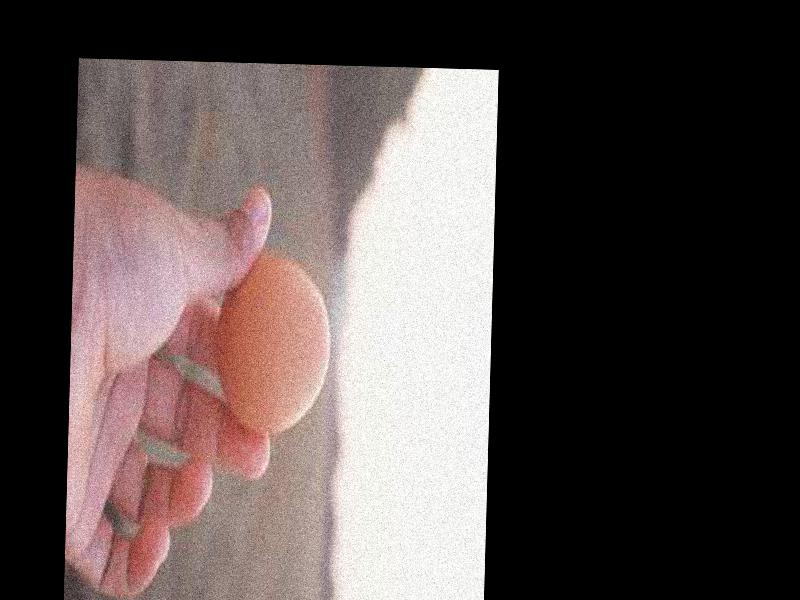Eggs: (216, 255, 332, 435)
